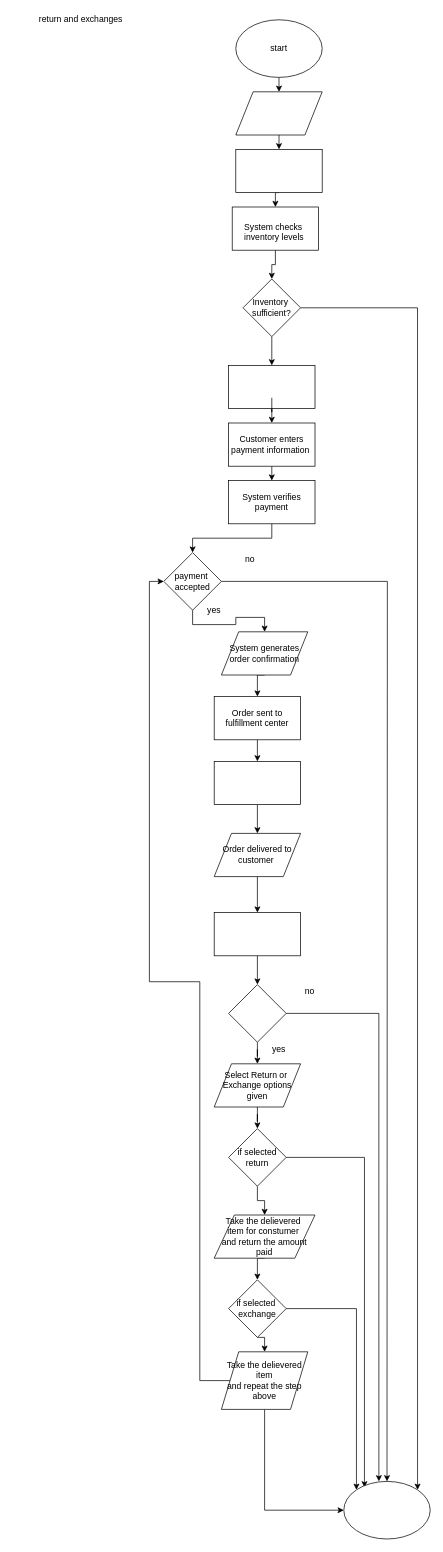
Image size: 443x1552. Some labels were removed from this diagram. The shapes that lost their labels are listed below. From the top down, each one's centre as x and y in pixels, then its label:
At (278,113): "Customer selects items to purchase".
At (278,171): "Customer proceeds to checkout".
At (271,387): "System calculates total cost".
At (257,783): "Fulfillment center ships order".
At (257,934): "Display Return and Exchange policy".
At (257,1013): "if any defect?".
At (386,1510): "stop".
